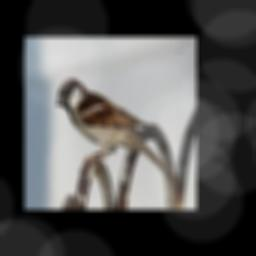Sparrow: (56, 78, 176, 183)
